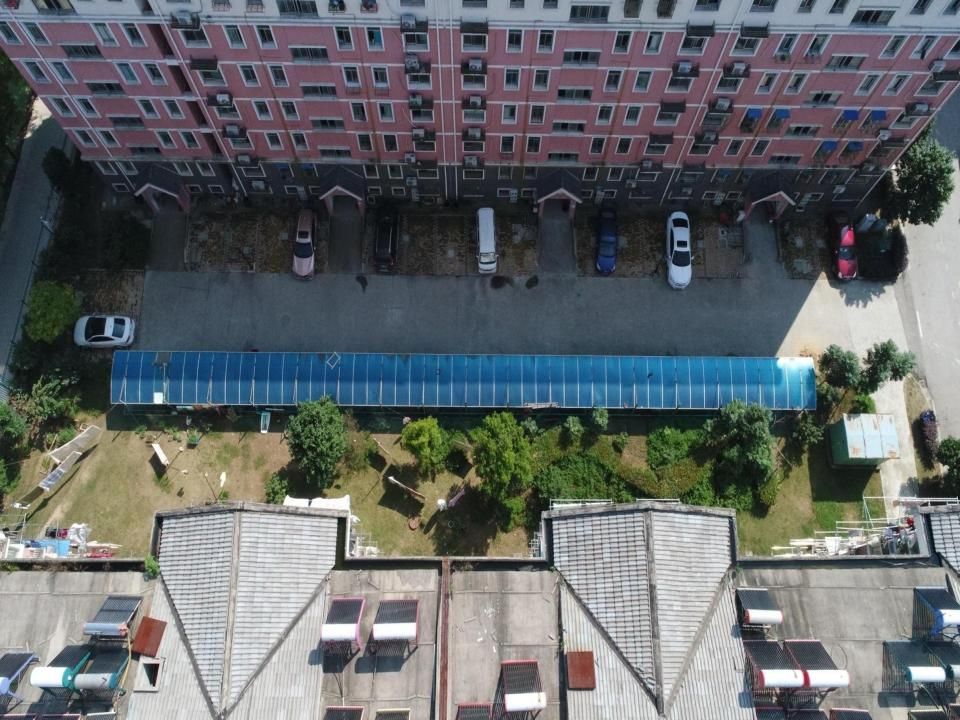car: (74, 311, 135, 350), (664, 212, 694, 288), (826, 210, 858, 281), (291, 209, 321, 280), (374, 204, 400, 272), (596, 207, 620, 275)
van: (476, 207, 499, 274)
